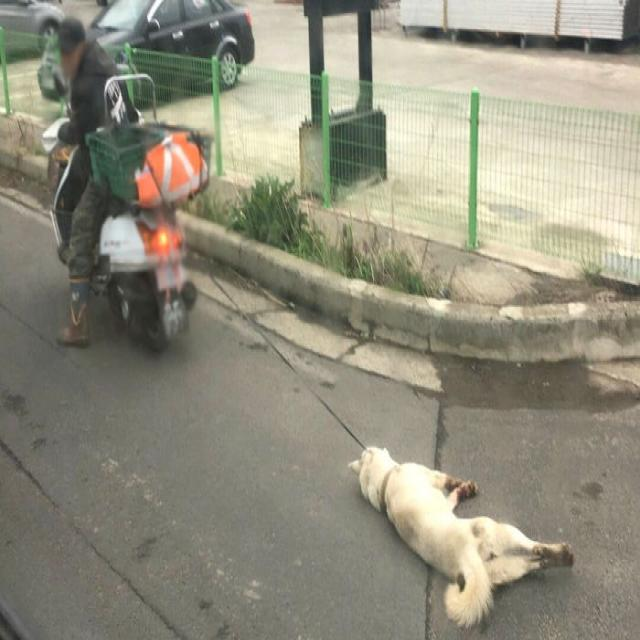dog: (317, 429, 584, 640)
